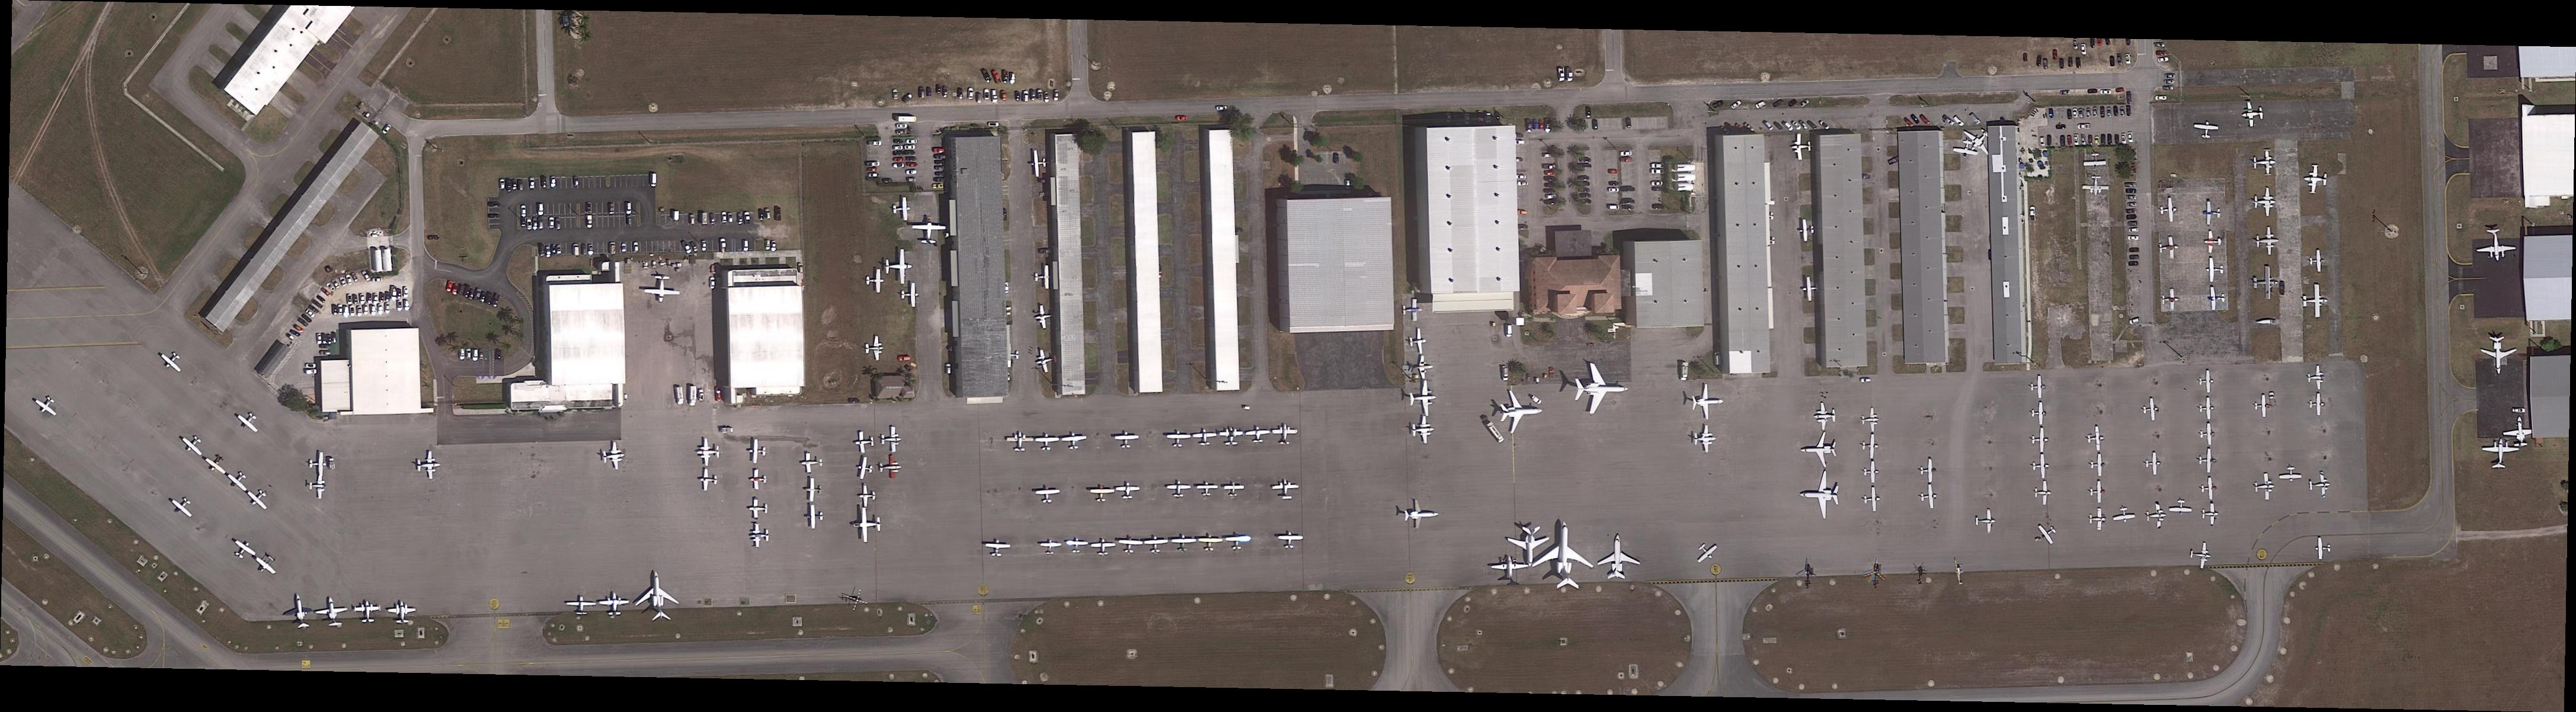plane: (1531, 520, 1594, 592), (1574, 361, 1630, 415), (634, 571, 680, 622), (1597, 535, 1641, 581), (1799, 471, 1840, 520), (1500, 390, 1544, 435), (1508, 527, 1551, 568), (2479, 333, 2517, 376), (1958, 121, 1999, 159), (1799, 431, 1838, 469), (2476, 228, 2517, 262), (283, 592, 317, 632), (2481, 438, 2520, 471), (1690, 384, 1723, 422), (642, 276, 680, 305), (2502, 415, 2535, 448), (315, 596, 348, 628), (853, 507, 882, 543), (910, 217, 946, 246), (1410, 379, 1437, 417), (250, 550, 283, 581), (1405, 499, 1439, 528), (884, 249, 912, 285), (156, 346, 187, 377), (1492, 556, 1529, 581), (1690, 536, 1720, 568), (168, 492, 199, 522), (228, 535, 260, 564), (233, 407, 264, 436), (2252, 264, 2279, 299), (2303, 284, 2328, 320), (179, 431, 209, 461), (33, 390, 62, 420), (202, 450, 232, 477), (225, 466, 253, 495), (245, 484, 273, 513), (1032, 348, 1060, 376), (2303, 164, 2328, 195), (598, 592, 629, 617), (2188, 541, 2215, 569), (2035, 520, 2062, 548), (2256, 226, 2280, 256), (388, 600, 417, 625), (601, 441, 626, 471), (1411, 415, 1434, 446), (417, 451, 442, 479), (353, 599, 381, 623), (2254, 187, 2275, 218), (2241, 100, 2264, 128), (2252, 149, 2275, 177), (2308, 471, 2331, 499), (1952, 136, 1980, 159), (565, 596, 596, 615), (1272, 423, 1298, 446), (1814, 404, 1837, 430), (1272, 479, 1299, 500), (2254, 472, 2275, 500), (698, 438, 720, 466), (2081, 176, 2109, 197), (1694, 425, 1715, 453), (1411, 354, 1434, 379), (2193, 120, 2219, 141), (881, 427, 902, 453), (854, 456, 876, 482), (997, 343, 1019, 369), (864, 335, 884, 363), (1007, 431, 1035, 451), (749, 522, 769, 550), (1408, 328, 1428, 356), (1791, 133, 1810, 161), (1030, 149, 1048, 179), (879, 456, 902, 479), (800, 450, 823, 472), (2159, 236, 2180, 261), (2146, 504, 2167, 528), (1033, 305, 1055, 330), (1975, 509, 1996, 533), (984, 538, 1010, 558), (854, 430, 874, 456), (2086, 425, 2106, 451), (1861, 433, 1879, 461), (1863, 486, 1881, 513), (892, 197, 912, 221), (866, 269, 885, 294), (1219, 427, 1244, 446), (2031, 428, 2050, 453), (2205, 258, 2224, 282), (1278, 532, 1304, 550), (1061, 433, 1088, 451), (1114, 431, 1140, 450), (1245, 427, 1272, 445), (1119, 536, 1145, 555), (1920, 484, 1939, 510), (2208, 285, 2226, 312), (2203, 200, 2221, 226), (1802, 276, 1819, 304), (309, 453, 329, 476), (698, 468, 718, 491), (1403, 299, 1423, 322), (2198, 448, 2216, 472), (2201, 504, 2219, 528), (900, 284, 918, 308), (1035, 433, 1060, 451), (1166, 430, 1191, 448), (1035, 486, 1060, 504), (309, 476, 327, 500), (749, 440, 767, 464), (2034, 481, 2052, 505), (2032, 454, 2050, 479), (1861, 407, 1879, 431), (2088, 507, 2106, 532), (2111, 507, 2136, 525), (2160, 199, 2178, 223), (2205, 230, 2223, 254), (1115, 482, 1140, 500), (1198, 535, 1222, 553), (1797, 218, 1815, 243), (2308, 364, 2325, 390), (807, 505, 823, 532), (1920, 458, 1937, 484), (1226, 533, 1252, 550), (2254, 394, 2272, 417), (1066, 536, 1089, 555), (805, 479, 823, 502), (1091, 484, 1114, 502), (2083, 153, 2106, 171), (2169, 499, 2193, 515), (2308, 392, 2325, 417), (2198, 369, 2215, 394), (859, 484, 876, 509), (1193, 430, 1217, 446), (1091, 540, 1115, 556), (2142, 397, 2159, 422), (1143, 536, 1168, 553), (1171, 535, 1196, 551), (2162, 289, 2180, 310), (749, 469, 767, 491), (749, 499, 767, 520), (2315, 536, 2331, 559), (1168, 481, 1191, 497), (2279, 466, 2302, 482), (2308, 249, 2325, 272), (1196, 482, 1219, 499), (2200, 422, 2215, 446), (1035, 266, 1050, 290), (2032, 400, 2047, 425), (2090, 479, 2104, 504), (2146, 451, 2160, 476), (2200, 399, 2216, 420), (1040, 540, 1061, 556), (2201, 477, 2216, 500), (2032, 376, 2047, 399), (2091, 454, 2106, 477), (1863, 461, 1878, 484), (1224, 482, 1245, 497)
